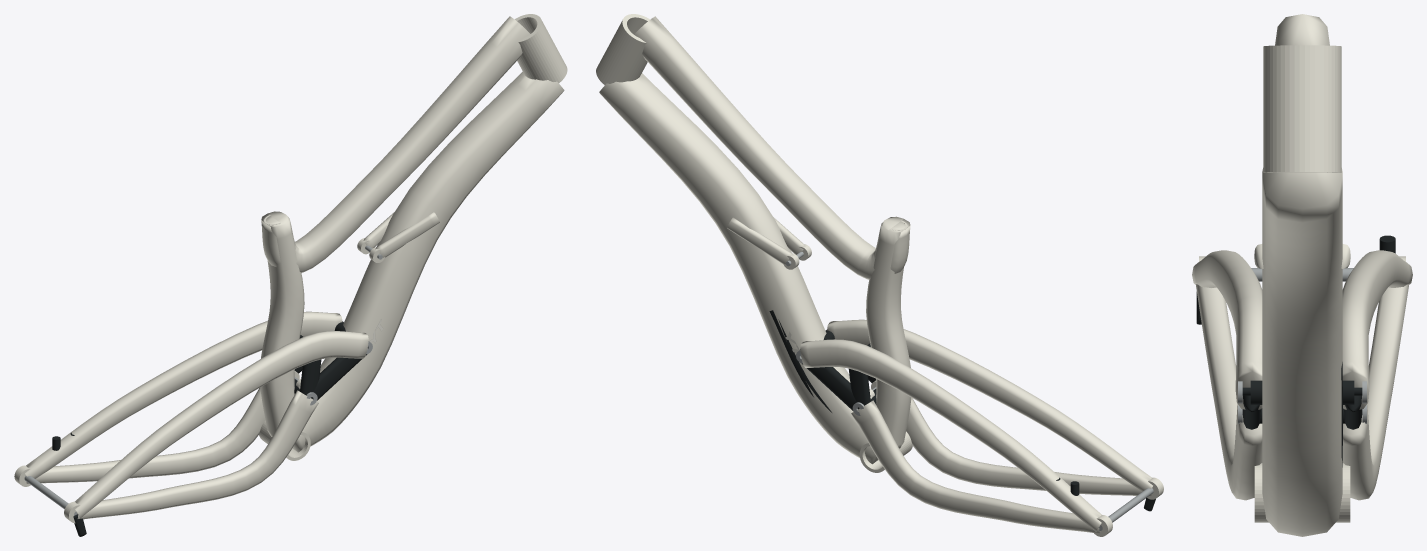
Rendered from yt-tues-mk4-carbon--649bfde4.glb.
The picture shows the model from 3 angles, left to right: view 1: azimuth 30°, elevation 25°; view 2: azimuth 150°, elevation 25°; view 3: azimuth 270°, elevation 25°; orthographic projection. The views are drawn at different scales.
Parts seen in each view (by area): view 1: yt-tues-mk4-carbon__paint_0, yt-tues-mk4-carbon__detail_0; view 2: yt-tues-mk4-carbon__paint_0, yt-tues-mk4-carbon__detail_0, yt-tues-mk4-carbon__detail_1; view 3: yt-tues-mk4-carbon__paint_0, yt-tues-mk4-carbon__detail_0, yt-tues-mk4-carbon__detail_1.
Part boxes in pixels (x1,y1,x2,y2): yt-tues-mk4-carbon__paint_0: [14, 14, 567, 523]; yt-tues-mk4-carbon__detail_0: [52, 321, 367, 536]; yt-tues-mk4-carbon__paint_0: [596, 14, 1163, 536]; yt-tues-mk4-carbon__detail_0: [769, 310, 1155, 511]; yt-tues-mk4-carbon__detail_1: [785, 252, 1153, 530]; yt-tues-mk4-carbon__paint_0: [1192, 14, 1412, 536]; yt-tues-mk4-carbon__detail_0: [1196, 235, 1395, 467]; yt-tues-mk4-carbon__detail_1: [1238, 268, 1366, 423].
Size of the model in its own units: 0.9985 by 0.7141 by 0.1919.
Materials: 5 (2 with a texture image).
